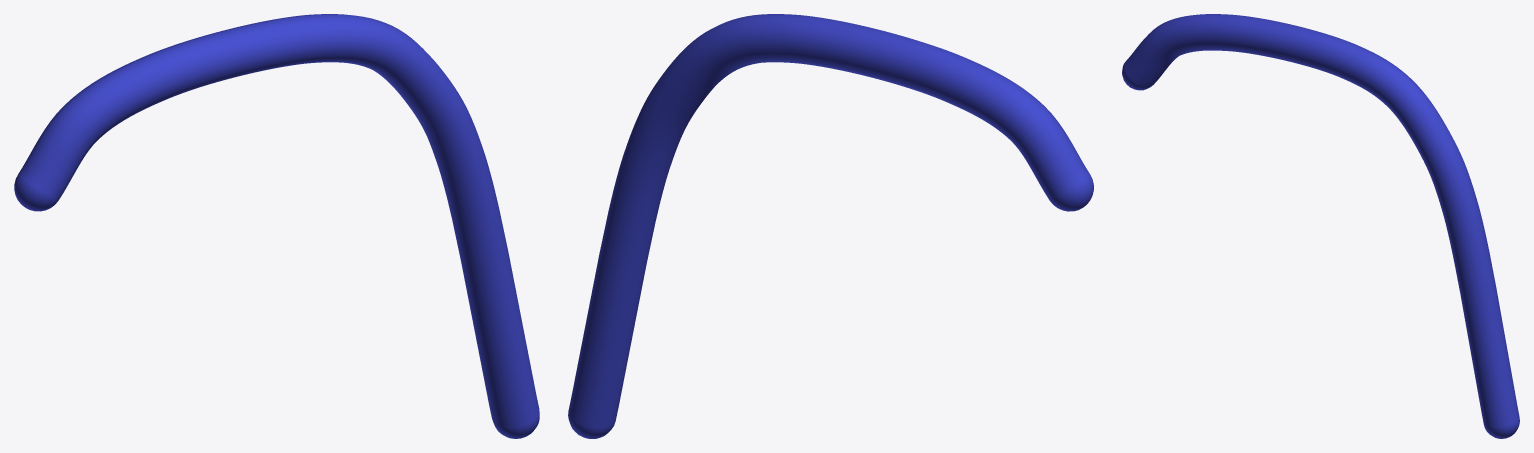
The model's file is noodle.fbx.
3 renders of one model, left to right at view 1: azimuth 30°, elevation 25°; view 2: azimuth 150°, elevation 25°; view 3: azimuth 330°, elevation 25°, orthographic. The views are drawn at different scales.
Visible parts, largest first — view 1: root; view 2: root; view 3: root.
Boxes of the visible parts, x1,y1,x2,y2 form: root: [14, 14, 539, 438]; root: [568, 14, 1093, 438]; root: [1122, 14, 1519, 438].
Size of the model in its own units: 0.7402 by 0.6462 by 0.0593.
